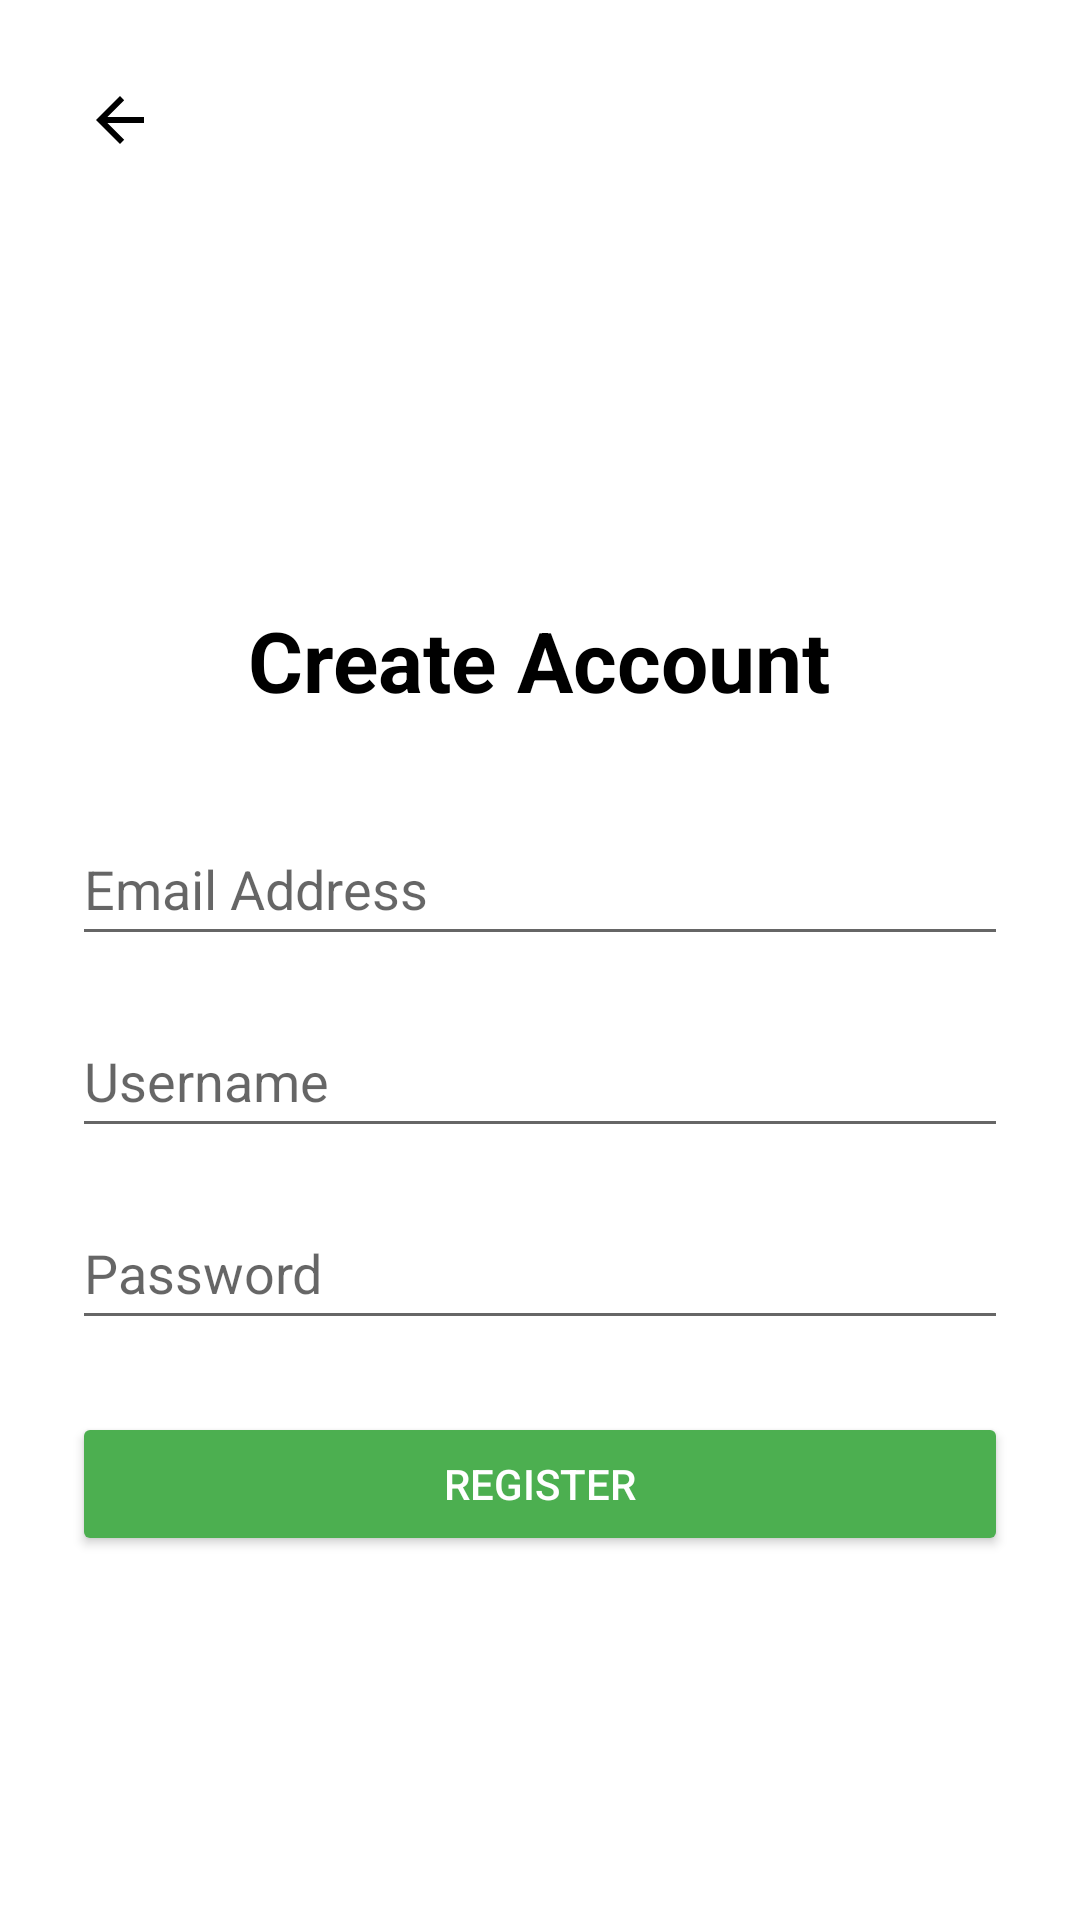

Icons on this 1080 x 1920 Android screen, each with the point to tap as (x=x, y=y):
Back: (x=120, y=120)
